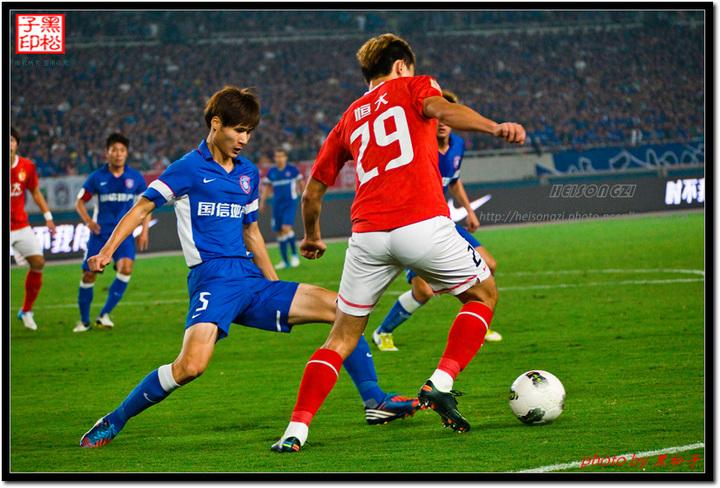football: (508, 371, 568, 427)
